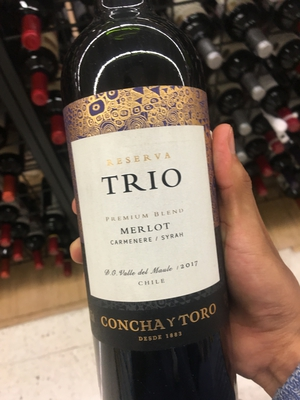trio merlot: (43, 28, 225, 381)
